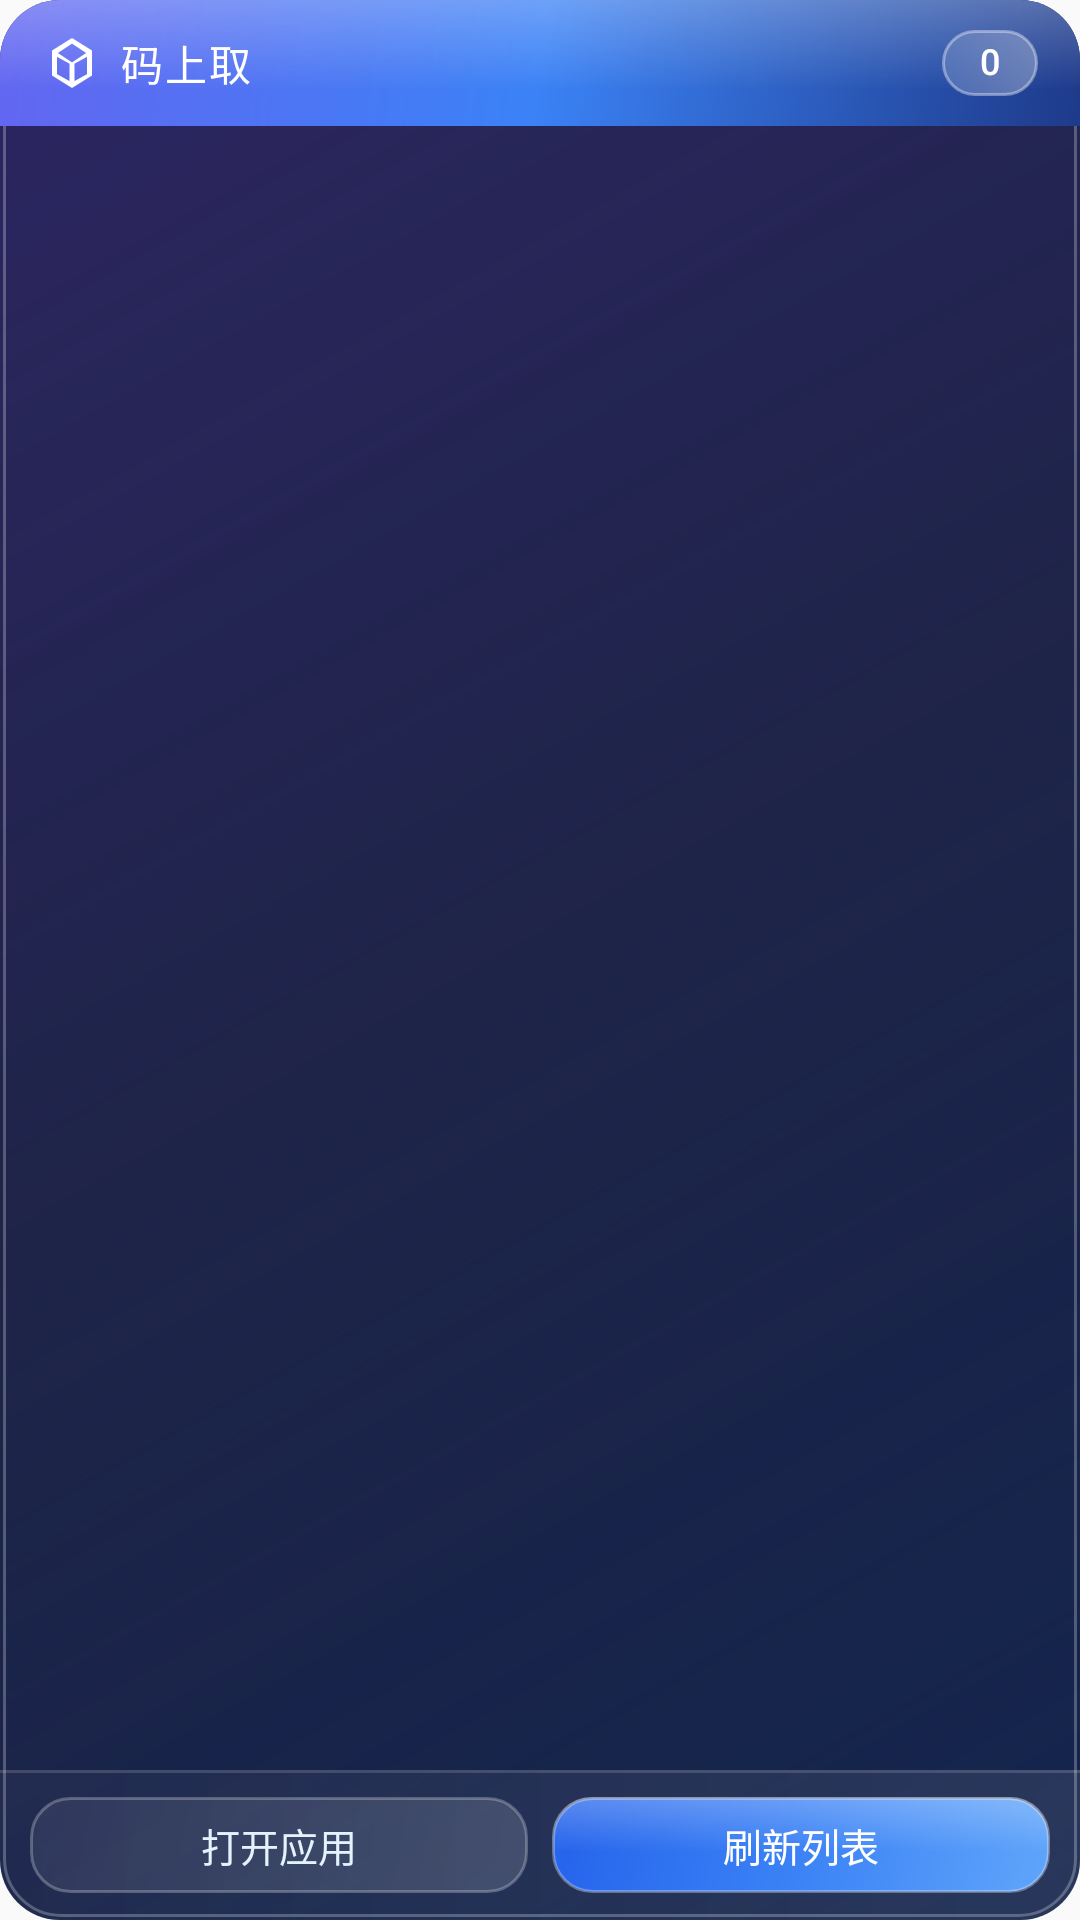

Named icons in this screenshot (1080w x 1920h) and their centers, (x,y):
package: (72,60)
